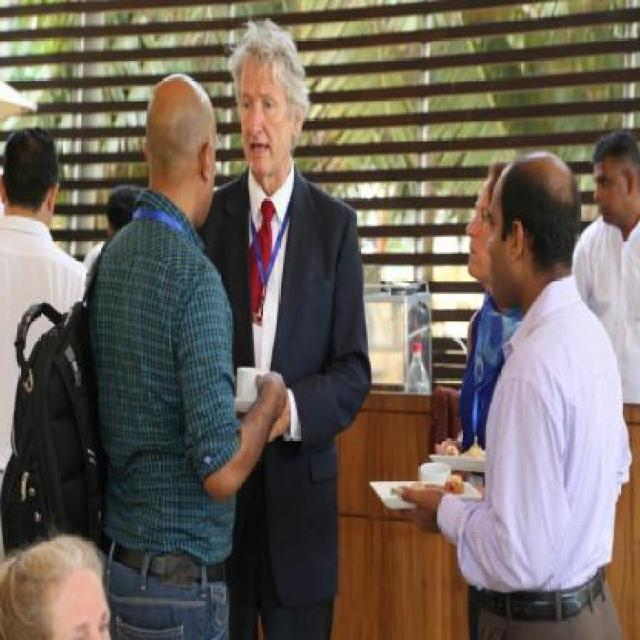backpack: (0, 291, 106, 557)
